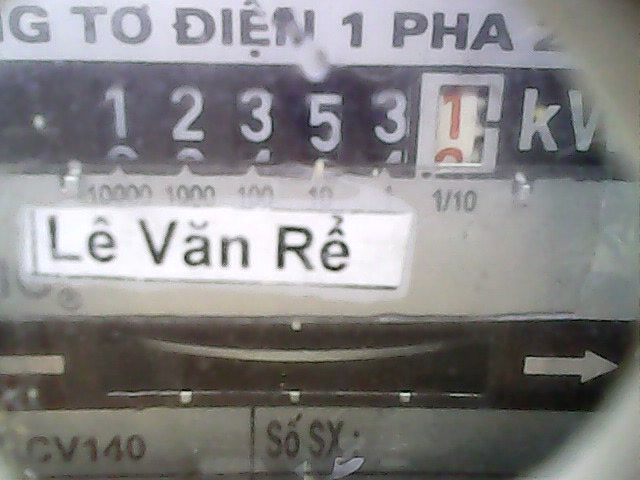phy_plate: (74, 60, 523, 183)
